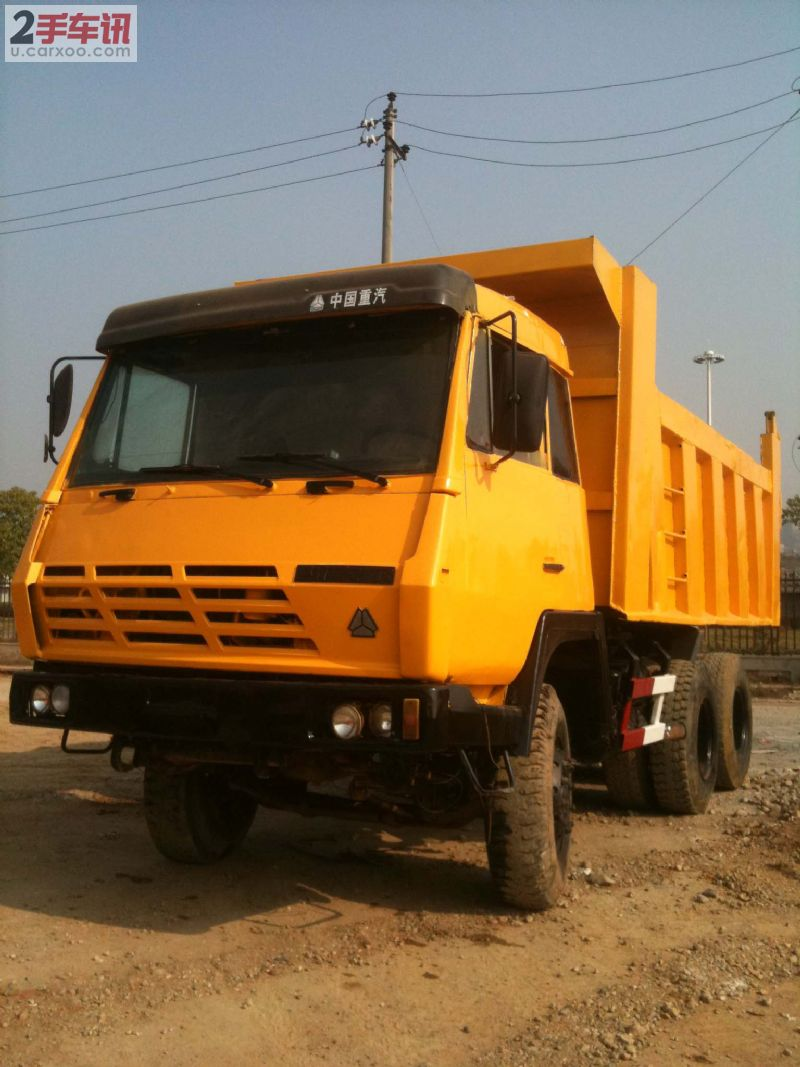truck: (78, 270, 659, 866)
